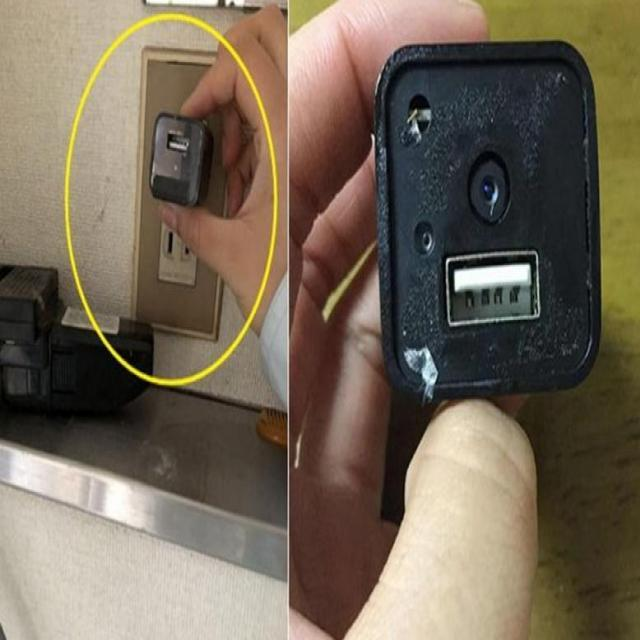hidden camera: (477, 170, 498, 206), (170, 158, 181, 176)
